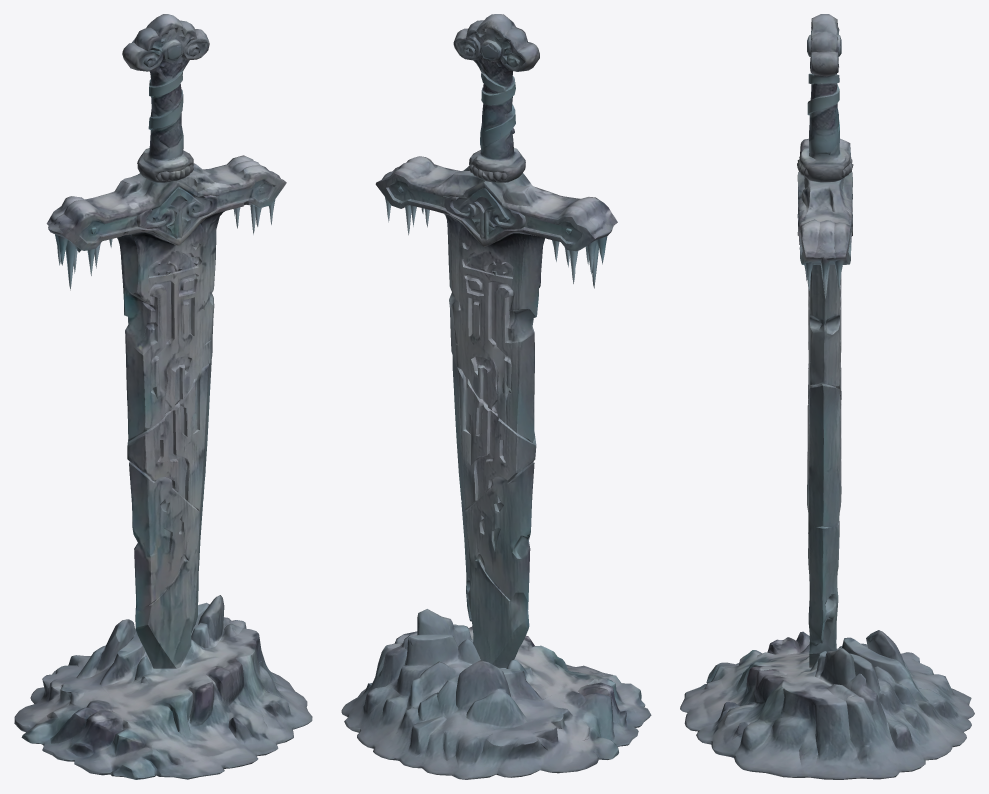
The model's file is monument.glb.
3 views of the same model, side by side, from view 1: azimuth 30°, elevation 25°; view 2: azimuth 150°, elevation 25°; view 3: azimuth 270°, elevation 25° (orthographic).
Visible parts, largest first — view 1: model; view 2: model; view 3: model.
Part boxes in pixels (left/top/right/bottom): model: left=14, top=14, right=312, bottom=779; model: left=341, top=14, right=651, bottom=779; model: left=680, top=14, right=974, bottom=779.
Size of the model in its own units: 0.7254 by 1.9 by 0.7198.
Materials: 1 (1 with a texture image).
